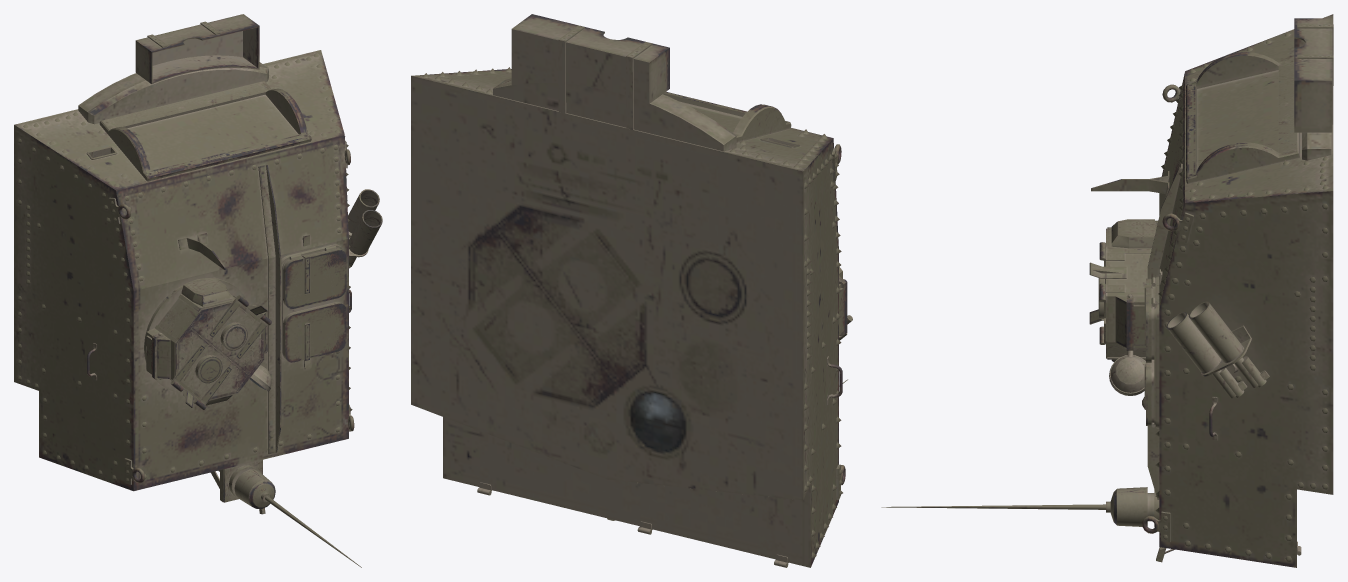
Rendered from Turret_02.glb.
3 views of the same model, side by side, from view 1: azimuth 30°, elevation 25°; view 2: azimuth 150°, elevation 25°; view 3: azimuth 270°, elevation 25° (orthographic). The views are drawn at different scales.
Visible parts, largest first — view 1: set_0_group_0; view 2: set_0_group_0; view 3: set_0_group_0.
Part boxes in pixels (left/top/right/bottom): set_0_group_0: left=14, top=14, right=382, bottom=567; set_0_group_0: left=411, top=14, right=852, bottom=567; set_0_group_0: left=881, top=14, right=1333, bottom=567.
Size of the model in its own units: 1.74 by 2.33 by 1.86.
1 material, 1 textured.
